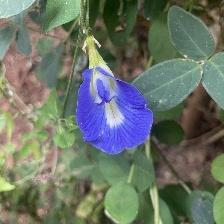shankupushpam: (74, 64, 158, 158)
